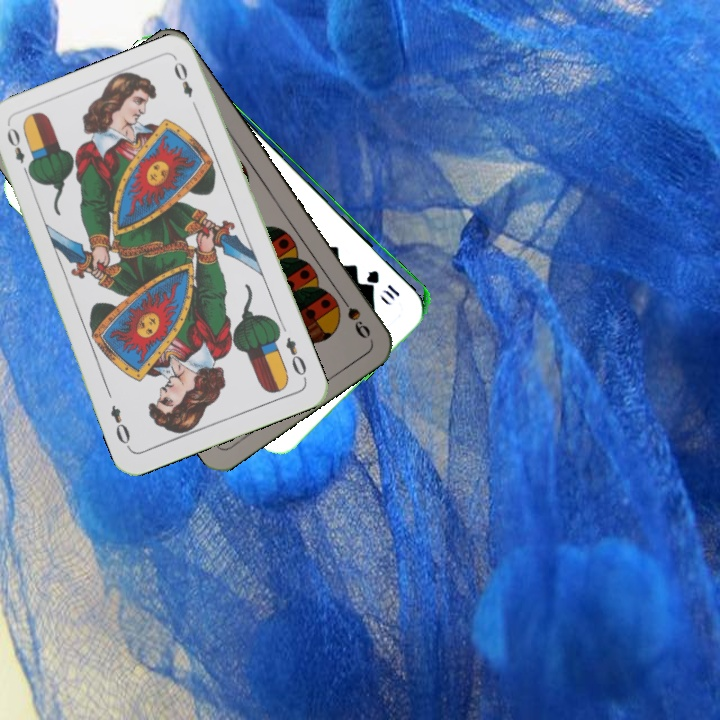EO: (3, 123, 34, 180), (281, 333, 310, 383)
G10: (364, 266, 403, 299)
S9: (334, 289, 374, 342)
